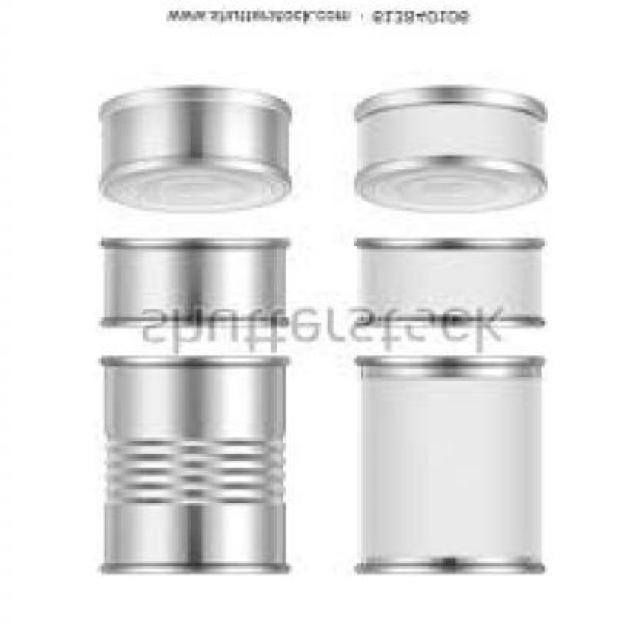METAL: (350, 358, 542, 580), (99, 358, 286, 577), (350, 90, 544, 213), (96, 90, 286, 213), (96, 238, 286, 331), (350, 242, 542, 331)
